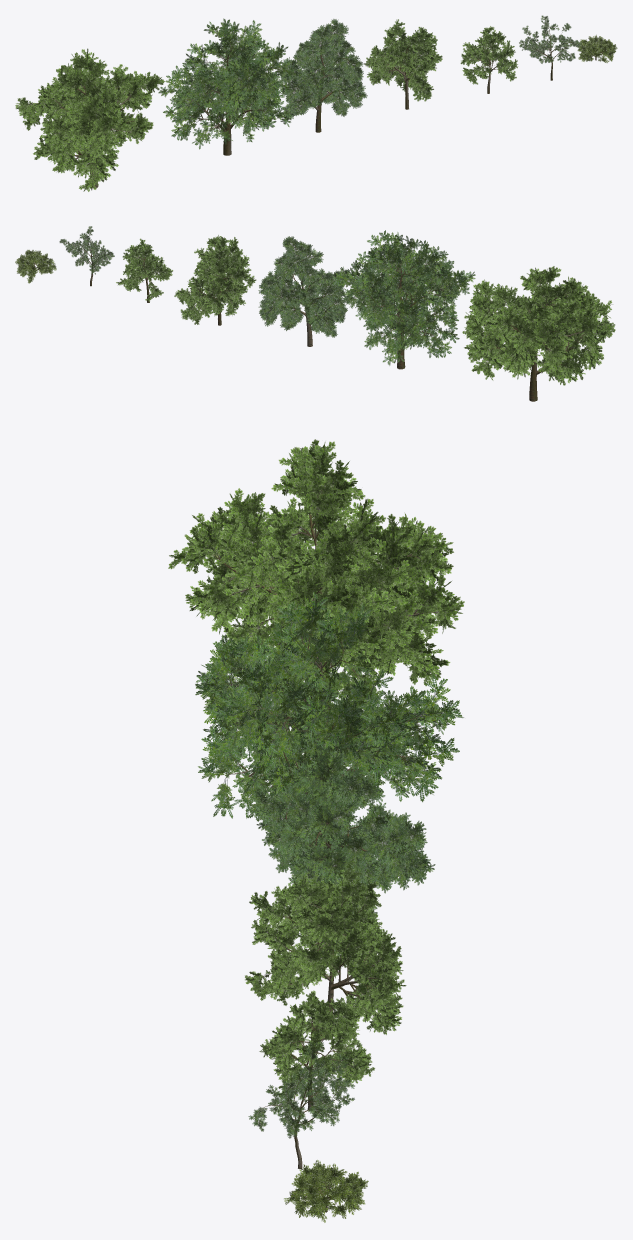
File: trees.glb
3 renders of one model, top to bottom at view 1: azimuth 30°, elevation 25°; view 2: azimuth 150°, elevation 25°; view 3: azimuth 270°, elevation 25°, orthographic. The views are drawn at different scales.
Visible parts, largest first — view 1: Tree EZTree1.Large009, Tree EZTree0.Large, Tree EZTree1.Large001, Tree EZTree0.Medium010, Tree EZTree0.Medium011, Tree EZTree1.Medium002, Tree EZTree1.Bush006; view 2: Tree EZTree1.Large009, Tree EZTree0.Large, Tree EZTree1.Large001, Tree EZTree0.Medium010, Tree EZTree0.Medium011, Tree EZTree1.Medium002, Tree EZTree1.Bush006; view 3: Tree EZTree1.Large009, Tree EZTree0.Large, Tree EZTree0.Medium010, Tree EZTree1.Large001, Tree EZTree0.Medium011, Tree EZTree1.Medium002, Tree EZTree1.Bush006.
Part boxes in pixels (bbox=[...]): Tree EZTree1.Large009: bbox=[15, 48, 164, 191]; Tree EZTree0.Large: bbox=[158, 18, 297, 155]; Tree EZTree1.Large001: bbox=[280, 19, 367, 132]; Tree EZTree0.Medium010: bbox=[364, 19, 442, 109]; Tree EZTree0.Medium011: bbox=[460, 26, 517, 93]; Tree EZTree1.Medium002: bbox=[519, 15, 581, 80]; Tree EZTree1.Bush006: bbox=[577, 35, 617, 62]; Tree EZTree1.Large009: bbox=[462, 266, 615, 401]; Tree EZTree0.Large: bbox=[330, 230, 475, 369]; Tree EZTree1.Large001: bbox=[258, 236, 350, 346]; Tree EZTree0.Medium010: bbox=[174, 235, 256, 325]; Tree EZTree0.Medium011: bbox=[116, 238, 173, 302]; Tree EZTree1.Medium002: bbox=[59, 226, 114, 286]; Tree EZTree1.Bush006: bbox=[15, 250, 56, 283]; Tree EZTree1.Large009: bbox=[168, 439, 464, 708]; Tree EZTree0.Large: bbox=[195, 592, 463, 862]; Tree EZTree0.Medium010: bbox=[245, 861, 406, 1034]; Tree EZTree1.Large001: bbox=[248, 746, 435, 957]; Tree EZTree0.Medium011: bbox=[259, 990, 374, 1109]; Tree EZTree1.Medium002: bbox=[248, 1041, 354, 1169]; Tree EZTree1.Bush006: bbox=[284, 1160, 368, 1222].
Bounding box in the file's own units: 473 × 107 × 109.
14 materials, 14 textured.
